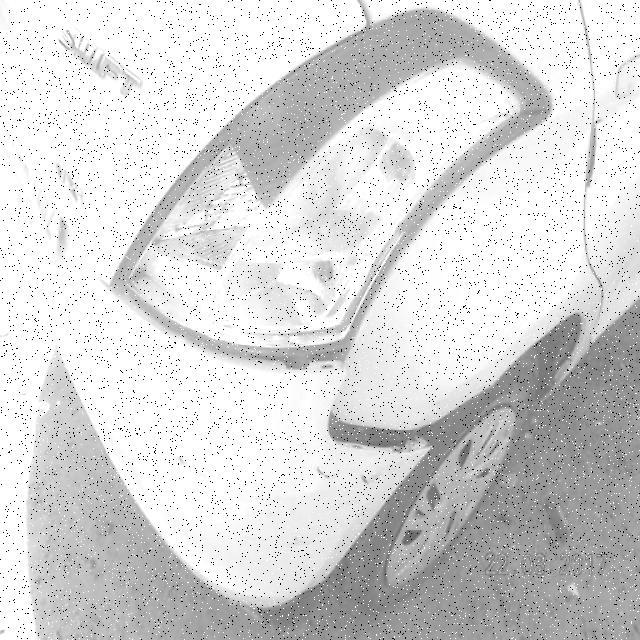car damage: (326, 407, 424, 453), (248, 346, 354, 374)
